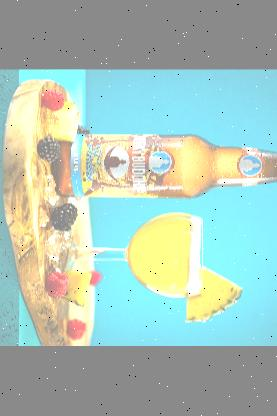Others: (51, 133, 277, 198), (58, 213, 202, 298)
